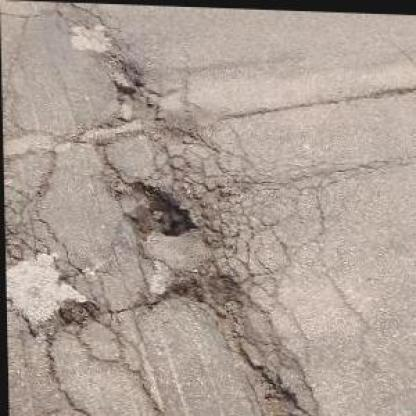pothole: (134, 178, 198, 242), (169, 264, 241, 305), (254, 372, 301, 414), (110, 56, 146, 106), (54, 297, 97, 334)
